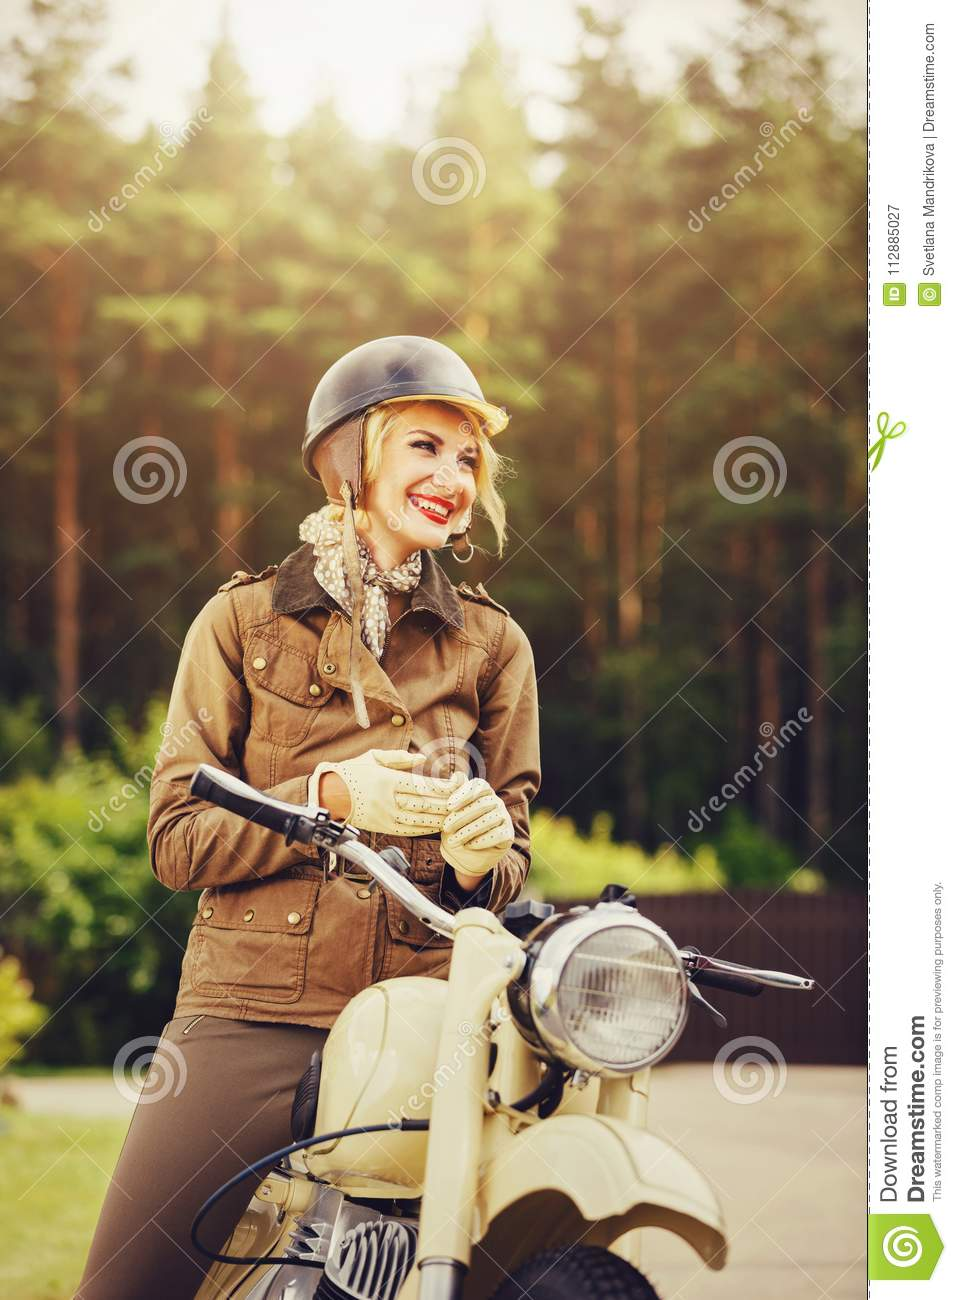with_helmet: (305, 319, 525, 530)
